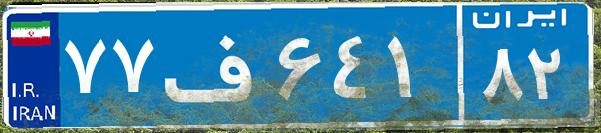1: (385, 28, 445, 110)
2: (525, 38, 570, 115)
4: (330, 28, 385, 110)
6: (273, 28, 330, 110)
7: (57, 26, 110, 107), (110, 28, 158, 105)
8: (475, 38, 525, 113)
ف: (158, 15, 273, 115)
